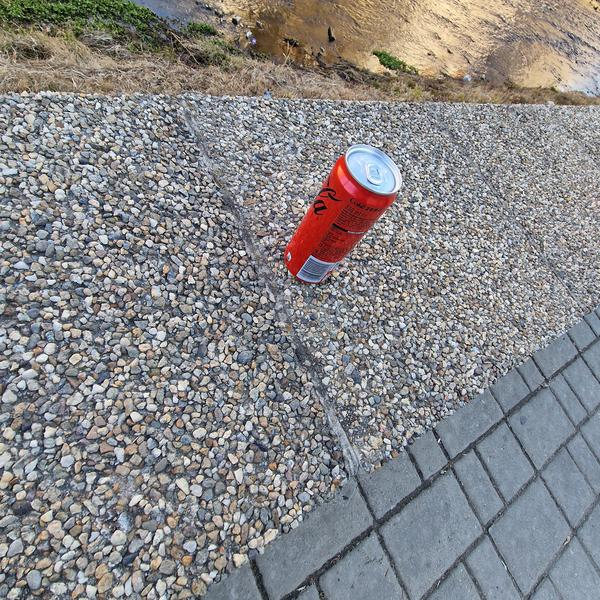can: (274, 134, 412, 301)
